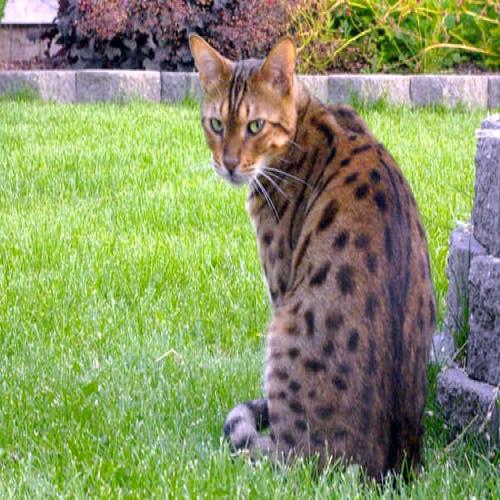cat-face: (179, 27, 307, 194)
